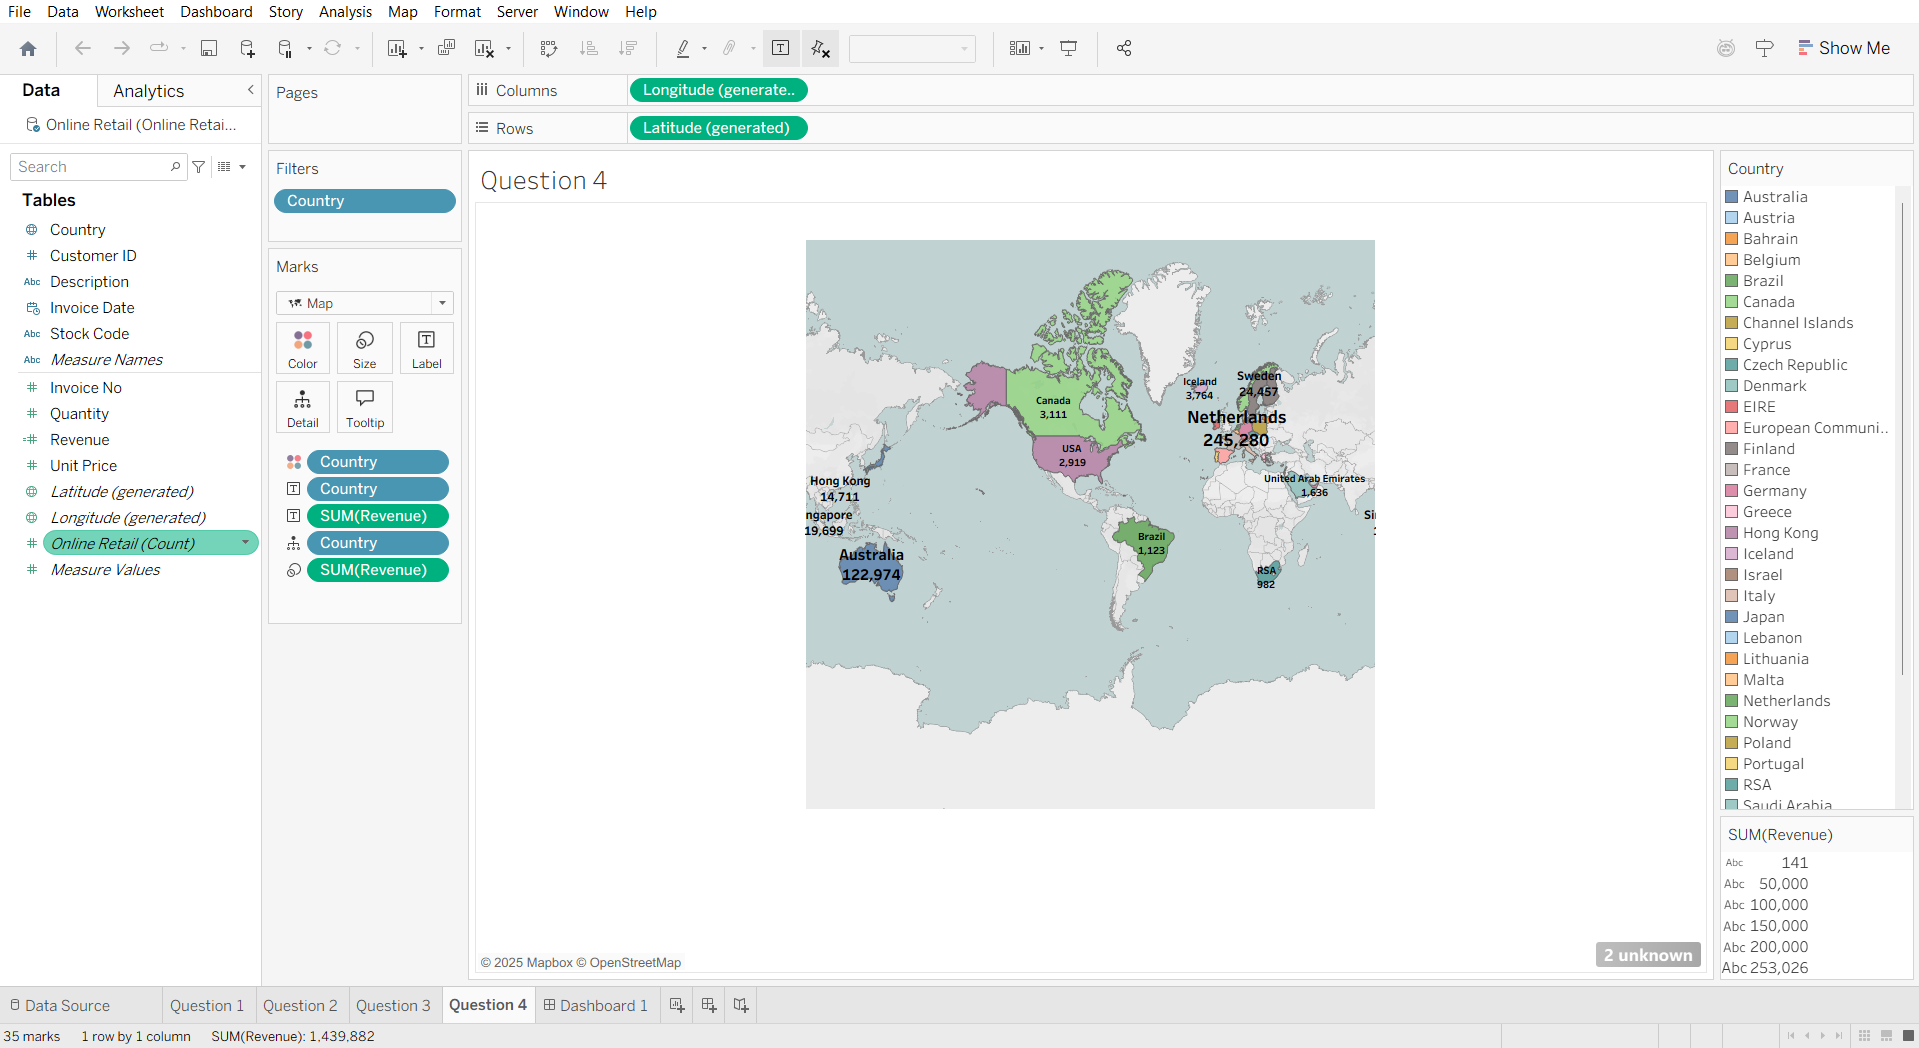

Layout of this report page (visuals, bound fields, positions):
{"tool":"powerbi","page":{"name":"Q4","canvas":[1280,720],"ordinal":3},"visuals":[{"type":"map","fields":{"Size":["Sum(Online Retail.Quantity)"],"Category":["Online Retail.Country"]},"box":[9.6,0,912.5,705.3],"z":0}]}

Visuals, with their boxes on the page's 1280x720 design canvas (x1, y1, x2, y2). These are canvas units, not pixel positions in the 1919x1048 screenshot, which may show the page scaled, cropped or inside an application window:
map - Sum(Online Retail.Quantity) x Online Retail.Country: BBox(10, 0, 922, 705)
